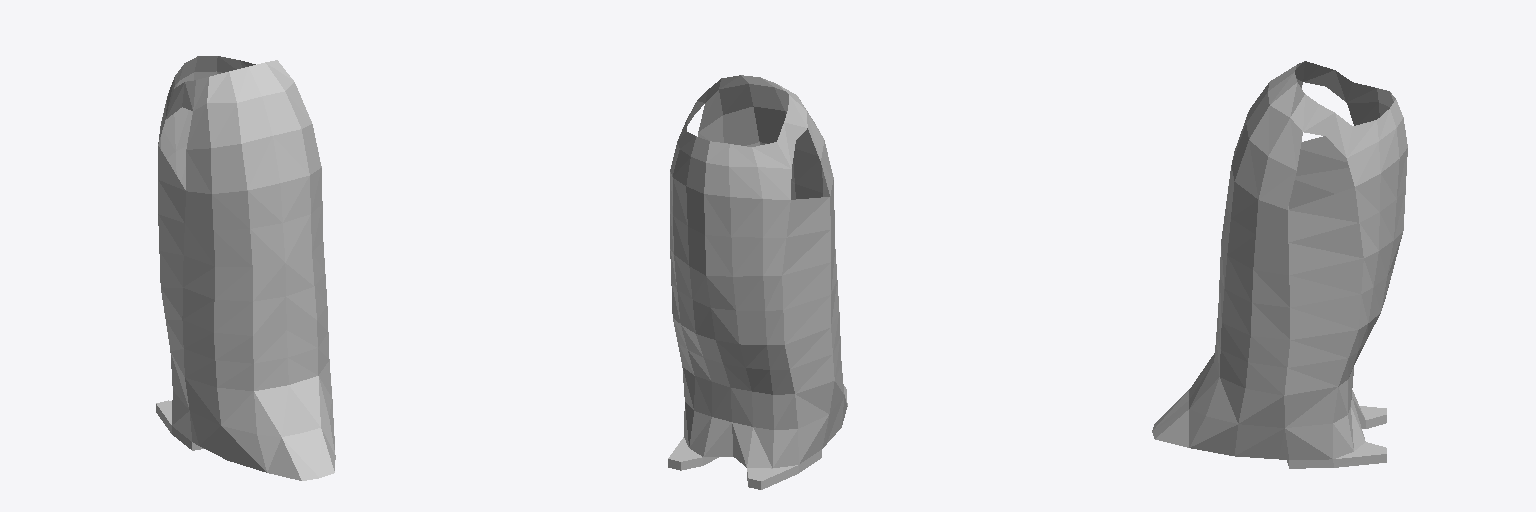
Rendered from pingu_body.obj.
The picture shows the model from 3 angles: view 1: azimuth 30°, elevation 25°; view 2: azimuth 150°, elevation 25°; view 3: azimuth 270°, elevation 25°; orthographic projection.
Parts seen in each view (by area): view 1: pinguin_001; view 2: pinguin_001; view 3: pinguin_001.
Boxes of the visible parts, <box> form: pinguin_001: <box>156,56,335,480</box>; pinguin_001: <box>668,75,847,489</box>; pinguin_001: <box>1152,61,1407,468</box>.
Bounding box in the file's own units: 0.4404 × 1.12 × 0.7082.